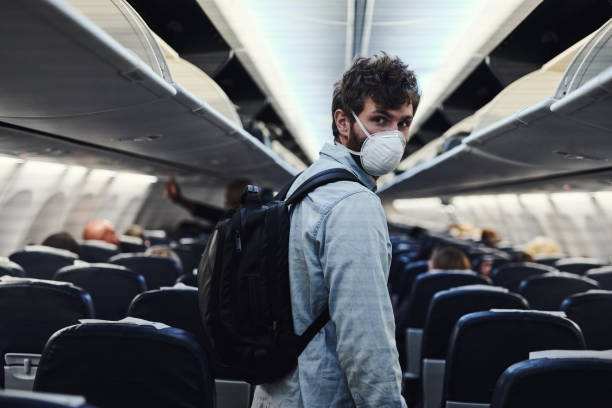with mask: (341, 90, 416, 180)
